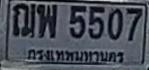0: (107, 7, 122, 39)
5: (69, 5, 85, 37), (88, 6, 104, 38)
7: (126, 7, 141, 40)
A12: (12, 2, 36, 36)
A30: (36, 3, 56, 37)
BKK: (25, 46, 130, 65)
